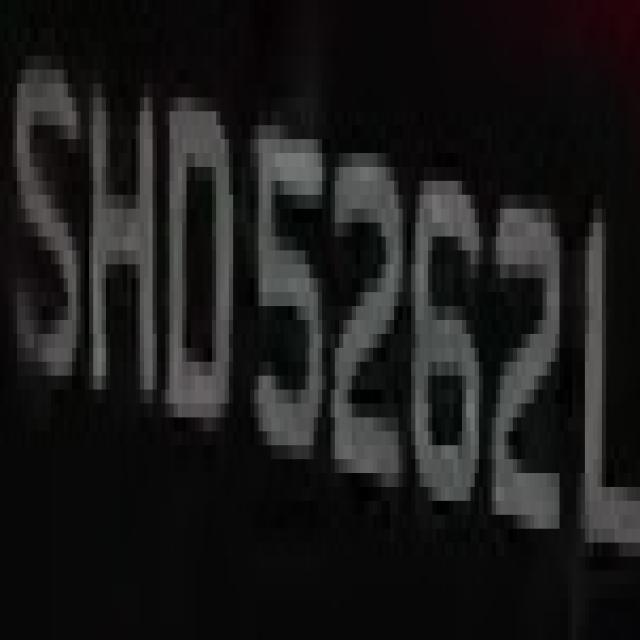2: (318, 83, 403, 584), (479, 153, 568, 612)
5: (242, 70, 326, 528)
6: (398, 111, 492, 543)
D: (152, 56, 245, 487)
H: (80, 14, 157, 403)
L: (564, 139, 636, 598)
S: (17, 14, 85, 348)
